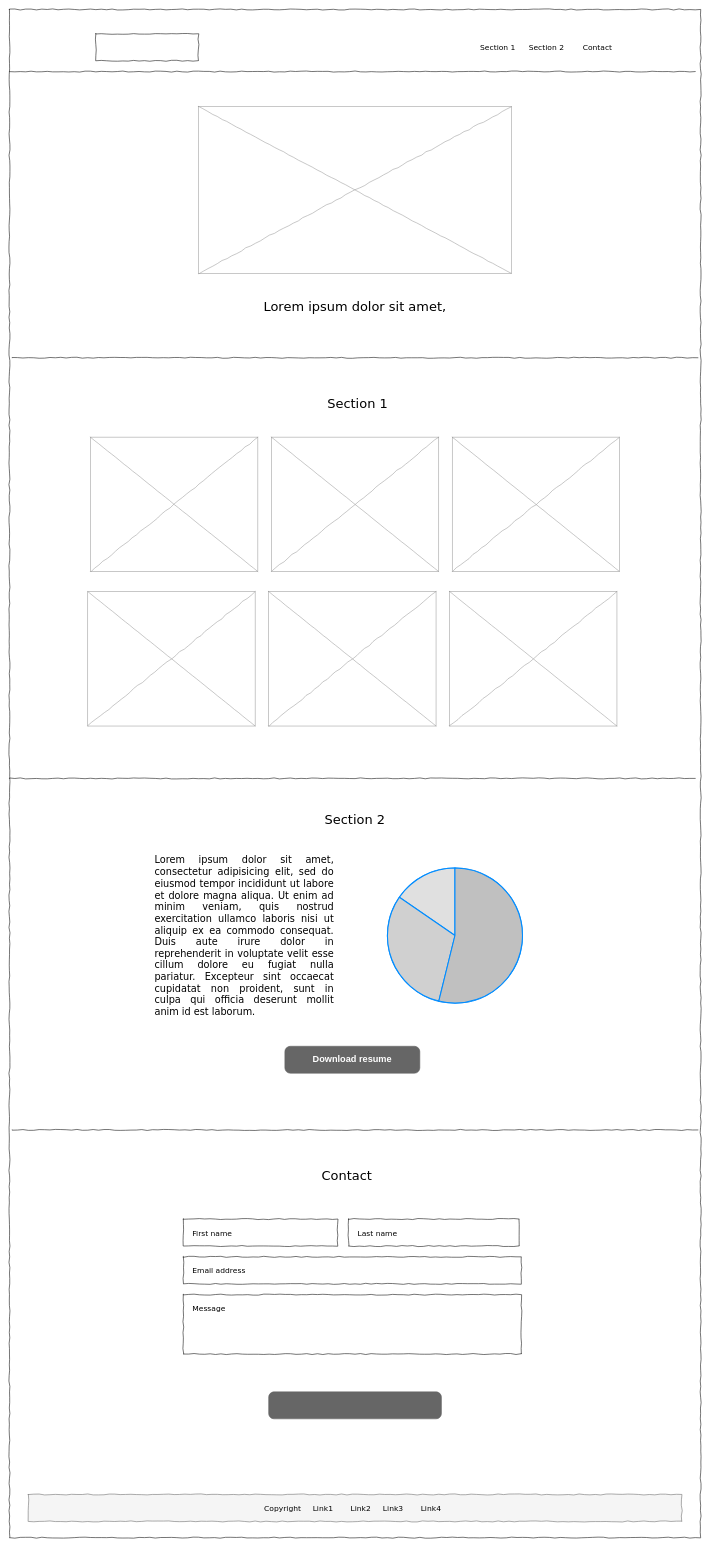
This 710x1547 diagram has some shape labels left out. The centre of each missing label's shape, as x and y in pixels:
"LOGO" belongs at pixel 146 47.
"Send" belongs at pixel 354 1405.
